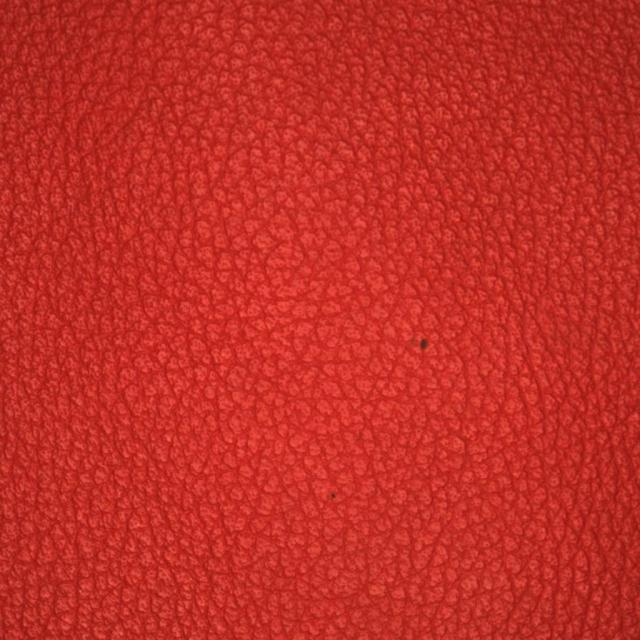Hole: (338, 281, 504, 402)
